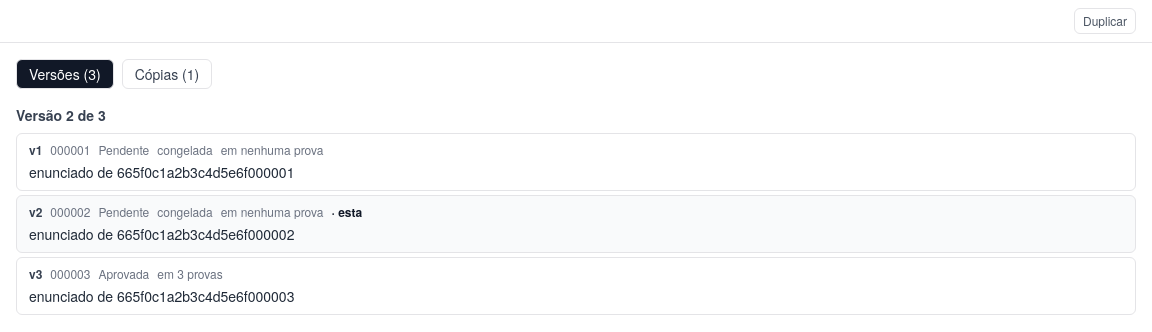
Test case: AbaLinhagem — duplicar no topo (QA) › ⚠️ depois de duplicar, busca a linhagem de novo e abre nas Cópias
Expected: the text "Versão 2 de 3" is shown, [16,105,106,125]
Click the button "Duplicar" at (1105, 21), box [1074,8,1136,34]
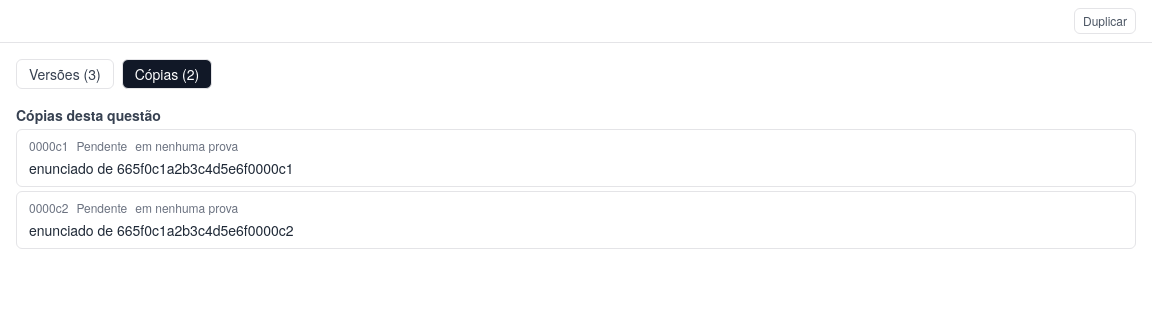
Expected: the number of list items is 2, [16,129,1136,187]; [16,191,1136,249]
